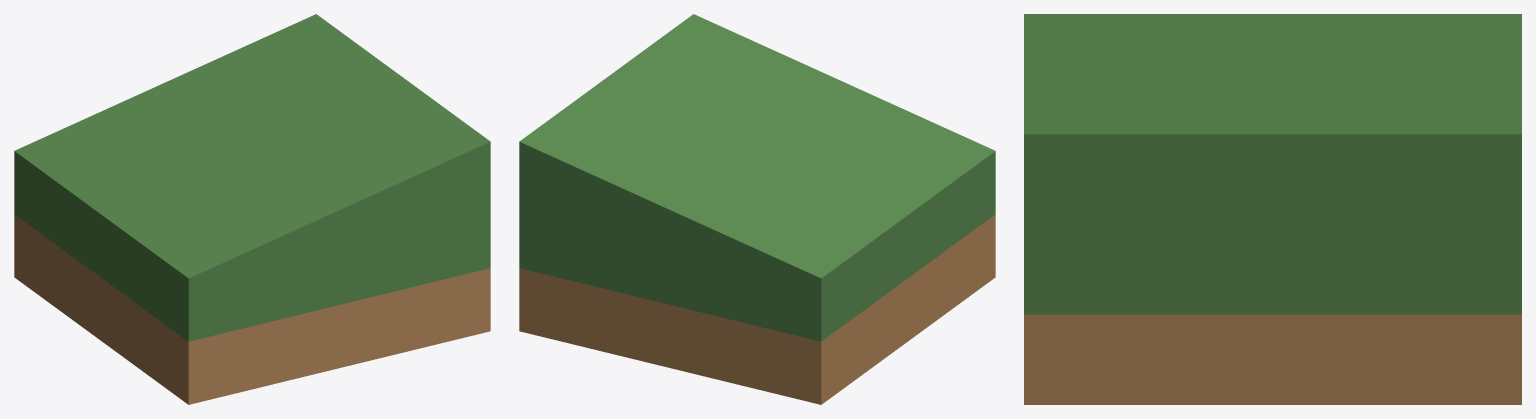
Rendered from tile_110.fbx.
3 views of the same model, side by side, from view 1: azimuth 30°, elevation 25°; view 2: azimuth 150°, elevation 25°; view 3: azimuth 270°, elevation 25° (orthographic). The views are drawn at different scales.
Visible parts, largest first — view 1: tile_110; view 2: tile_110; view 3: tile_110.
Part boxes in pixels (box(x1,y1,x2,y2)): tile_110: box(14, 14, 490, 404); tile_110: box(519, 14, 995, 404); tile_110: box(1024, 14, 1521, 404).
Size of the model in its own units: 10 by 6 by 10.
